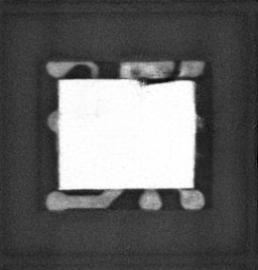DIE_BROKEN: (136, 76, 179, 87)
